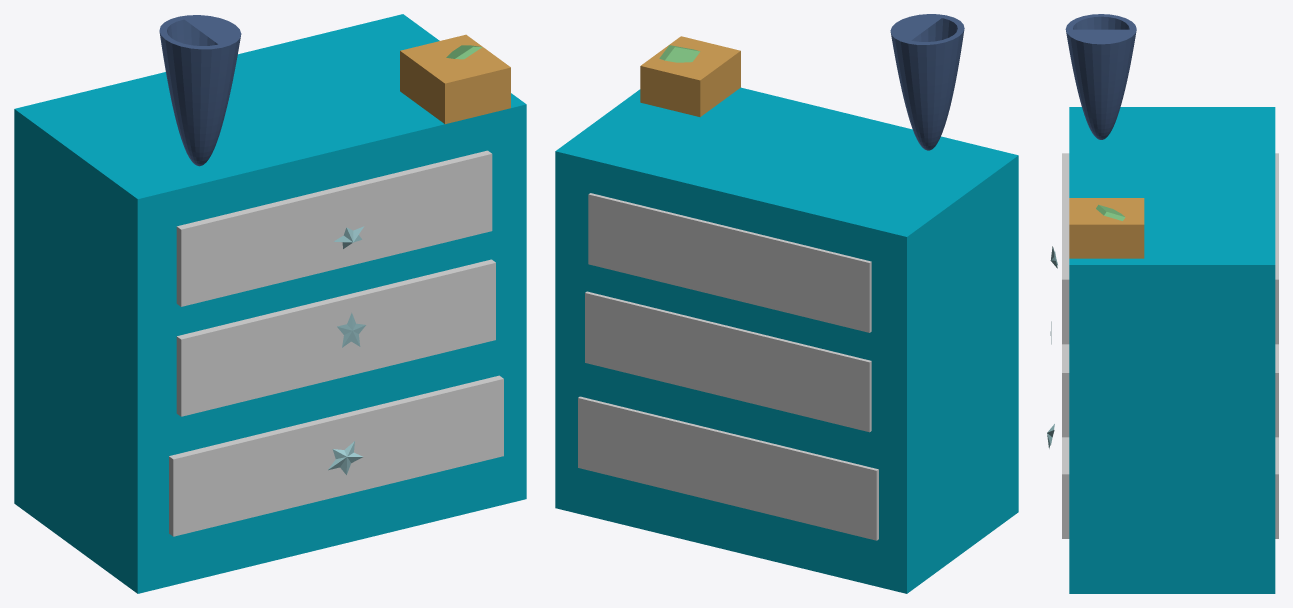
File: Magnificent Kup.glb
3 views of the same model, side by side, from view 1: azimuth 30°, elevation 25°; view 2: azimuth 150°, elevation 25°; view 3: azimuth 270°, elevation 25° (orthographic). The views are drawn at different scales.
Visible parts, largest first — view 1: Mesh_Mesh_head_geo.001_lambert2SG.001; view 2: Mesh_Mesh_head_geo.001_lambert2SG.001; view 3: Mesh_Mesh_head_geo.001_lambert2SG.001.
Boxes of the visible parts, box(x1,y1,x2,y2) form: Mesh_Mesh_head_geo.001_lambert2SG.001: box(14, 14, 526, 593); Mesh_Mesh_head_geo.001_lambert2SG.001: box(555, 14, 1018, 593); Mesh_Mesh_head_geo.001_lambert2SG.001: box(1047, 14, 1278, 593).
Bounding box in the file's own units: 100 × 130 × 62.
